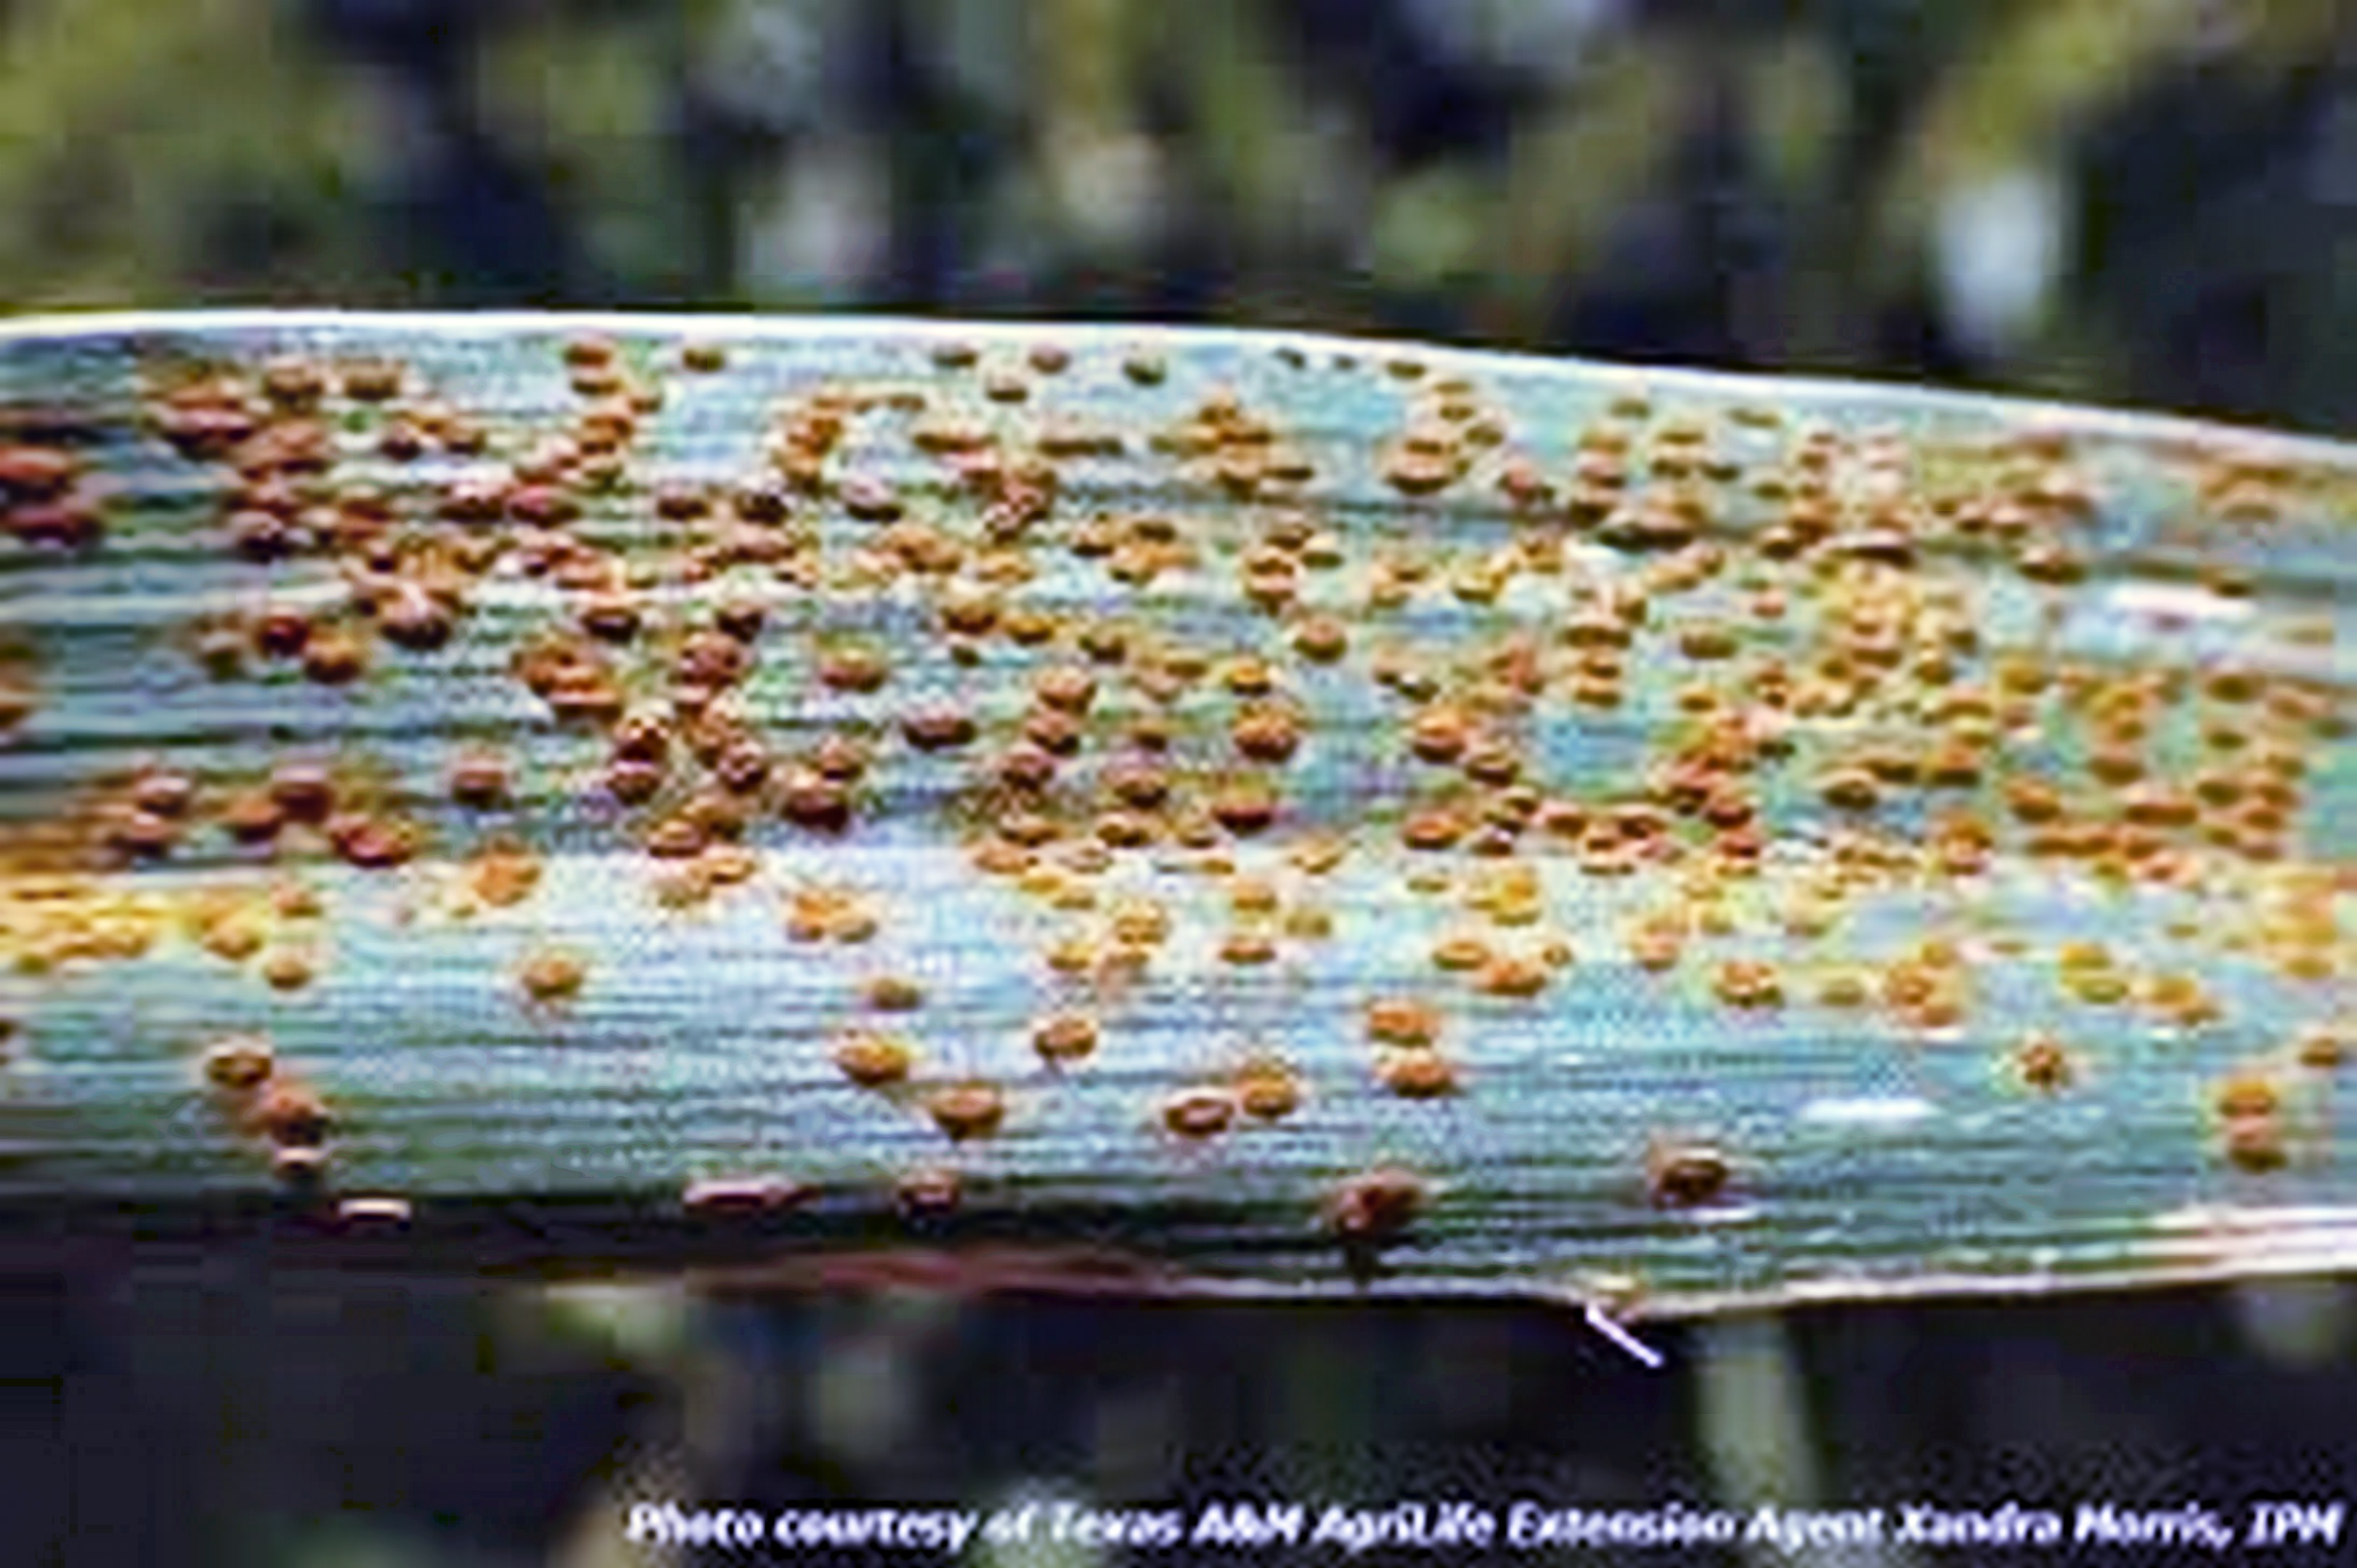Leaf Rust: (198, 352, 1953, 1283)
